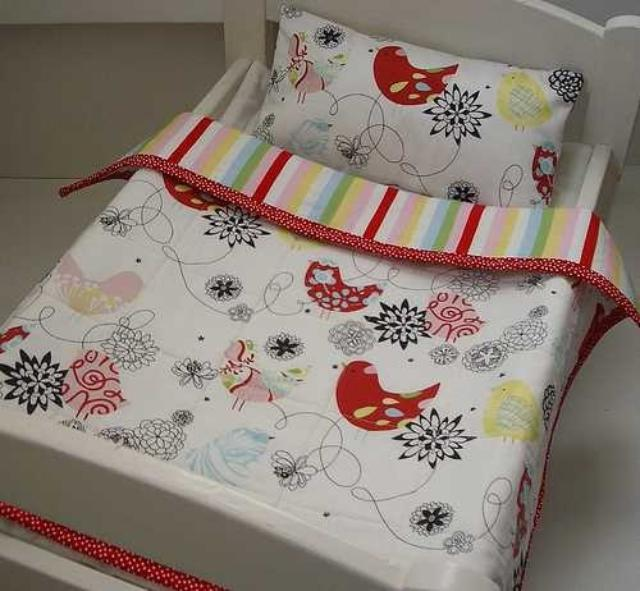pillow: (244, 3, 584, 209)
